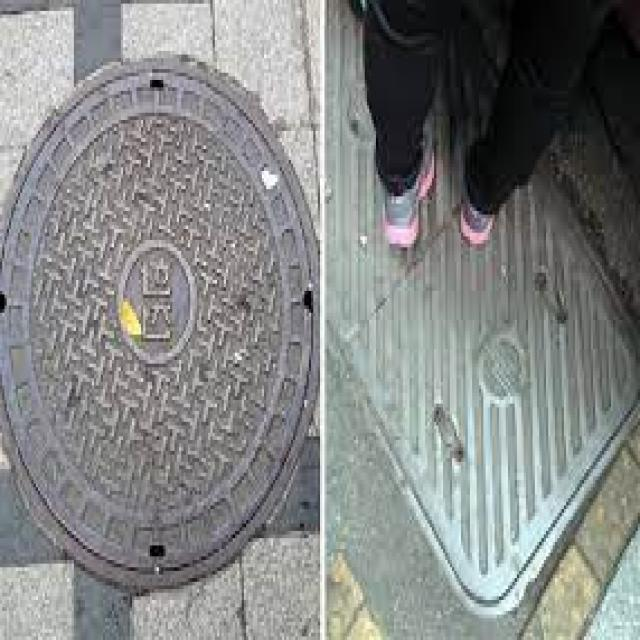Sewer Cover: (0, 55, 319, 634)
